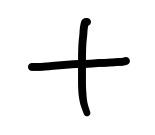plus: (27, 18, 128, 116)
